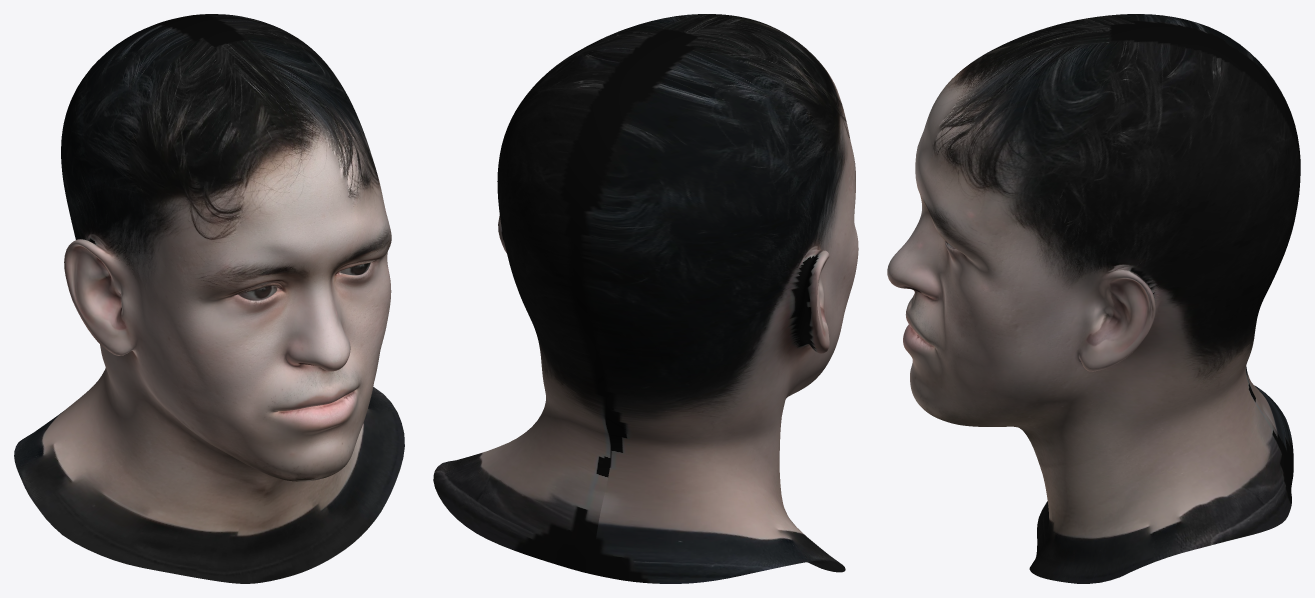
The model's file is head.glb.
3 renders of one model, left to right at view 1: azimuth 30°, elevation 25°; view 2: azimuth 150°, elevation 25°; view 3: azimuth 270°, elevation 25°, orthographic. The views are drawn at different scales.
Parts seen in each view (by area): view 1: FBHead; view 2: FBHead; view 3: FBHead.
Part boxes in pixels (x1,y1,x2,y2): FBHead: (14,14,404,583); FBHead: (433,14,858,583); FBHead: (887,14,1300,583).
Size of the model in its own units: 1.9 by 2.58 by 1.86.
1 material, 1 textured.
